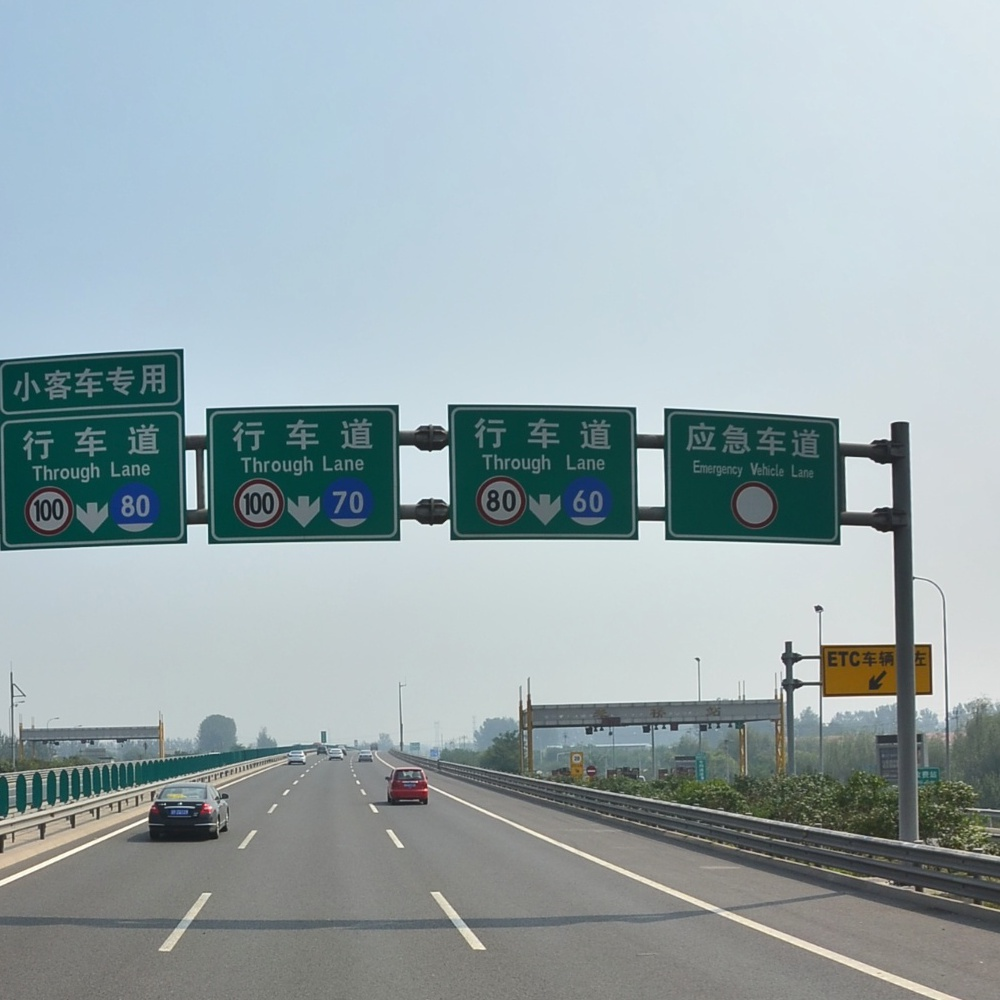pl100: (232, 477, 284, 528), (24, 485, 74, 537)
pl80: (474, 475, 526, 526)
po: (563, 475, 611, 528), (111, 482, 160, 532), (323, 478, 371, 527), (732, 481, 777, 529)
